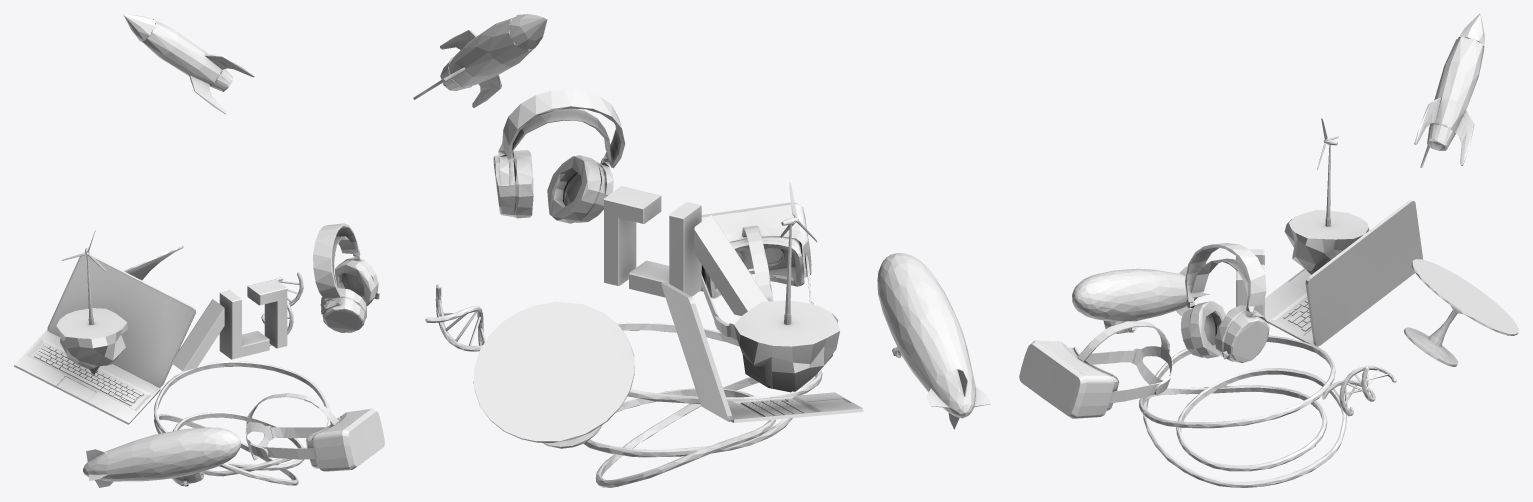
The picture shows the model from 3 angles, left to right: view 1: azimuth 30°, elevation 25°; view 2: azimuth 150°, elevation 25°; view 3: azimuth 270°, elevation 25°; orthographic projection. The views are drawn at different scales.
Parts seen in each view (by area): view 1: Notebook, Zeppelin, VR Headset, Altair Studio-Logo, Headphones, Rocket.003, Roundcube.001, Curly, Table, DNA; view 2: Table, Altair Studio-Logo, Headphones, Zeppelin, Roundcube.001, VR Headset, Curly, Notebook, Rocket.003, DNA; view 3: Notebook, VR Headset, Curly, Headphones, Zeppelin, Rocket.003, Table, Roundcube.001, DNA, Altair Studio-Logo.
Part boxes in pixels (box(x1,y1,x2,y2)): Notebook: box(14, 252, 195, 424); Zeppelin: box(83, 427, 241, 487); VR Headset: box(245, 393, 384, 471); Altair Studio-Logo: box(171, 279, 287, 371); Headphones: box(313, 223, 379, 332); Rocket.003: box(123, 14, 254, 114); Roundcube.001: box(56, 230, 127, 374); Curly: box(154, 361, 330, 485); Table: box(124, 246, 183, 280); DNA: box(261, 272, 303, 345); Table: box(473, 301, 634, 448); Altair Studio-Logo: box(604, 186, 767, 315); Headphones: box(493, 89, 625, 223); Zeppelin: box(877, 253, 990, 429); Roundcube.001: box(734, 182, 839, 392); VR Headset: box(700, 202, 813, 340); Curly: box(583, 322, 822, 487); Notebook: box(661, 282, 863, 422); Rocket.003: box(413, 14, 547, 107); DNA: box(425, 284, 485, 351); Notebook: box(1265, 199, 1423, 346); VR Headset: box(1019, 321, 1172, 418); Curly: box(1138, 335, 1346, 487); Headphones: box(1181, 243, 1269, 362); Zeppelin: box(1072, 266, 1209, 333); Rocket.003: box(1414, 14, 1484, 167); Table: box(1404, 259, 1518, 366); Roundcube.001: box(1284, 118, 1369, 274); DNA: box(1322, 365, 1396, 416); Altair Studio-Logo: box(1236, 249, 1264, 320).
Bounding box in the file's own units: 63.68 × 75.73 × 77.01.
10 materials, 10 textured.
